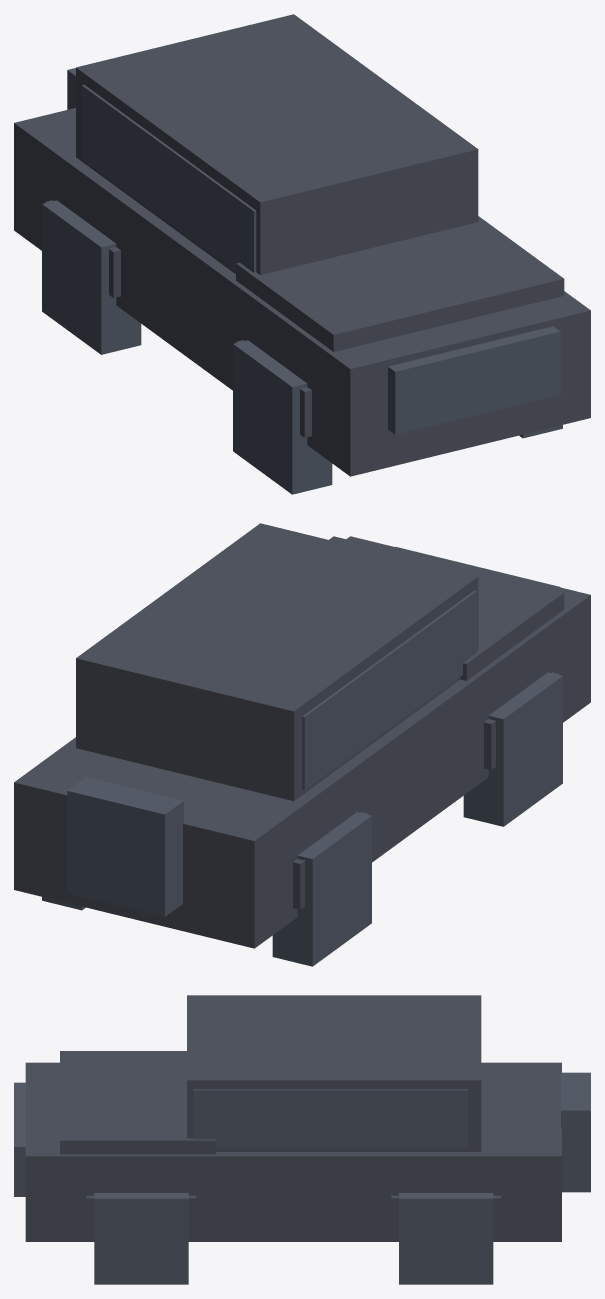
The model's file is land_cruiser_300.glb.
The picture shows the model from 3 angles, top to bottom: view 1: azimuth 30°, elevation 25°; view 2: azimuth 150°, elevation 25°; view 3: azimuth 270°, elevation 25°; orthographic projection. The views are drawn at different scales.
Visible parts, largest first — view 1: Body_Exterior_Paint, Rims_Wheels_Interior_Engine; view 2: Body_Exterior_Paint, Rims_Wheels_Interior_Engine; view 3: Body_Exterior_Paint, Rims_Wheels_Interior_Engine.
Boxes of the visible parts, <box> form: Body_Exterior_Paint: <box>14,14,590,476</box>; Rims_Wheels_Interior_Engine: <box>42,68,562,494</box>; Body_Exterior_Paint: <box>14,523,590,948</box>; Rims_Wheels_Interior_Engine: <box>42,546,562,966</box>; Body_Exterior_Paint: <box>25,995,561,1241</box>; Rims_Wheels_Interior_Engine: <box>14,1072,590,1284</box>.
Size of the model in its own units: 2.16 by 1.86 by 5.
